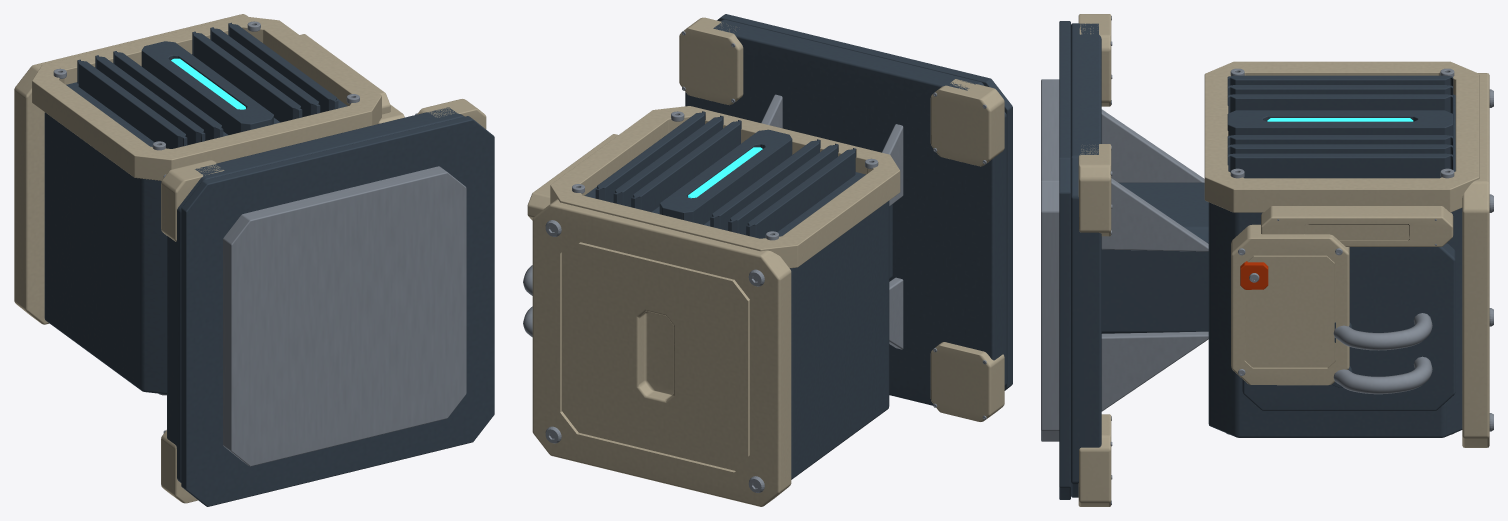
Rendered from CommunicationTransmitter.fbx.
The picture shows the model from 3 angles, left to right: view 1: azimuth 30°, elevation 25°; view 2: azimuth 150°, elevation 25°; view 3: azimuth 270°, elevation 25°; orthographic projection. The views are drawn at different scales.
Visible parts, largest first — view 1: adapter_WheeledCarrier_load_seat, adapter_WheeledCarrier_upper_plate, transmitter_shell, front_armour_rim, roof_armour, mount_base, radiator_center_channel, radiator_fin, radiator_fin.003, radiator_fin.002, radiator_fin.004, radiator_fin.005 (+6 smaller); view 2: roof_armour, mount_base, transmitter_shell, front_armour_rim, mount_corner_armour.001, mount_corner_armour, radiator_center_channel, mount_corner_armour.003, adapter_WheeledCarrier_upper_plate, radiator_fin, radiator_fin.003, radiator_fin.005 (+7 smaller); view 3: side_connection_back, side_service_box, front_armour_rim, transmitter_shell, fixed_load_column, mount_base, roof_armour, adapter_WheeledCarrier_load_seat, side_front_cover, adapter_WheeledCarrier_upper_plate, radiator_fin.005, radiator_center_channel (+15 smaller).
Part boxes in pixels (<box>): adapter_WheeledCarrier_load_seat: <box>223,166,466,466</box>; adapter_WheeledCarrier_upper_plate: <box>181,116,494,506</box>; transmitter_shell: <box>44,54,347,394</box>; front_armour_rim: <box>32,16,381,180</box>; roof_armour: <box>14,14,248,324</box>; mount_base: <box>167,107,464,482</box>; radiator_center_channel: <box>141,41,273,134</box>; radiator_fin: <box>77,59,187,148</box>; radiator_fin.003: <box>192,31,302,122</box>; radiator_fin.002: <box>113,51,223,140</box>; radiator_fin.004: <box>210,27,320,117</box>; radiator_fin.005: <box>228,22,338,112</box>; roof_armour: <box>532,199,791,506</box>; mount_base: <box>685,19,1006,405</box>; transmitter_shell: <box>584,172,889,479</box>; front_armour_rim: <box>550,106,900,268</box>; mount_corner_armour.001: <box>930,79,1004,166</box>; mount_corner_armour: <box>930,342,1004,421</box>; radiator_center_channel: <box>659,129,792,224</box>; mount_corner_armour.003: <box>679,17,743,105</box>; adapter_WheeledCarrier_upper_plate: <box>717,14,1012,390</box>; radiator_fin: <box>746,148,856,238</box>; radiator_fin.003: <box>631,120,741,212</box>; radiator_fin.005: <box>595,111,705,202</box>; side_connection_back: <box>1242,243,1455,410</box>; side_service_box: <box>1231,224,1349,385</box>; front_armour_rim: <box>1204,61,1479,212</box>; transmitter_shell: <box>1208,94,1462,437</box>; fixed_load_column: <box>1101,182,1208,333</box>; mount_base: <box>1071,23,1101,497</box>; roof_armour: <box>1462,73,1489,447</box>; adapter_WheeledCarrier_load_seat: <box>1041,79,1059,441</box>; side_front_cover: <box>1261,206,1453,246</box>; adapter_WheeledCarrier_upper_plate: <box>1059,21,1070,499</box>; radiator_fin.005: <box>1227,153,1453,178</box>; radiator_center_channel: <box>1227,110,1453,136</box>.
Bounding box in the file's own units: 31.5 × 29.26 × 35.06.
